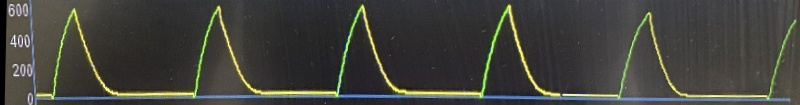normal_volume: (38, 0, 780, 105)
